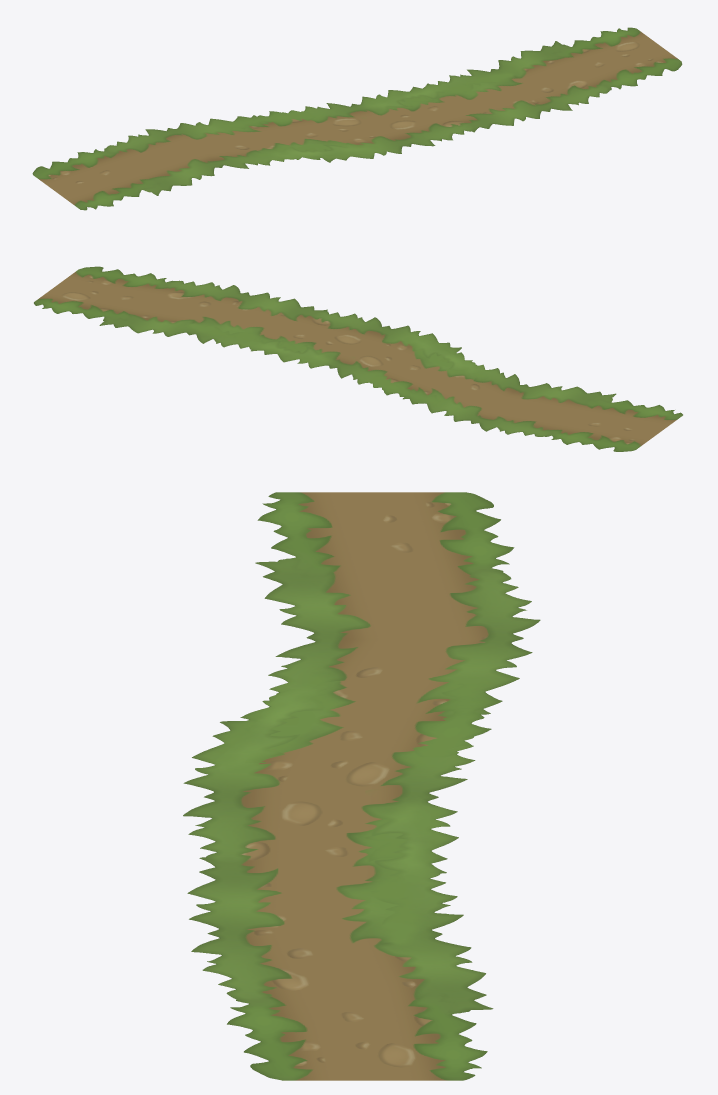
The model's file is RoadStraight.fbx.
The picture shows the model from 3 angles, top to bottom: view 1: azimuth 30°, elevation 25°; view 2: azimuth 150°, elevation 25°; view 3: azimuth 270°, elevation 25°; orthographic projection. The views are drawn at different scales.
Parts seen in each view (by area): view 1: Path_Straight; view 2: Path_Straight; view 3: Path_Straight.
Part boxes in pixels (x1,y1,x2,y2): Path_Straight: [32, 27, 682, 210]; Path_Straight: [34, 266, 682, 451]; Path_Straight: [183, 492, 540, 1080].
Size of the model in its own units: 1600 by 8.79e-05 by 533.
Materials: 1 (1 with a texture image).
